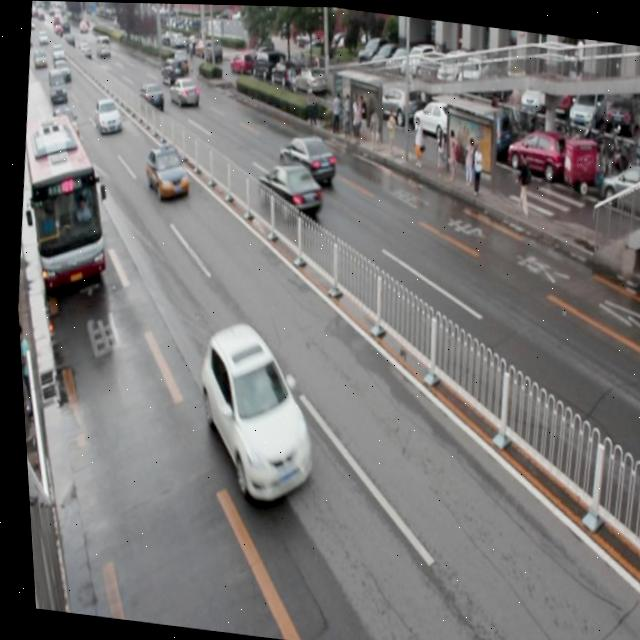car: (183, 316, 321, 504), (251, 157, 324, 221), (272, 130, 338, 186), (140, 138, 192, 199), (90, 96, 123, 135), (166, 75, 200, 108), (136, 81, 165, 112)
van: (8, 111, 119, 295)
